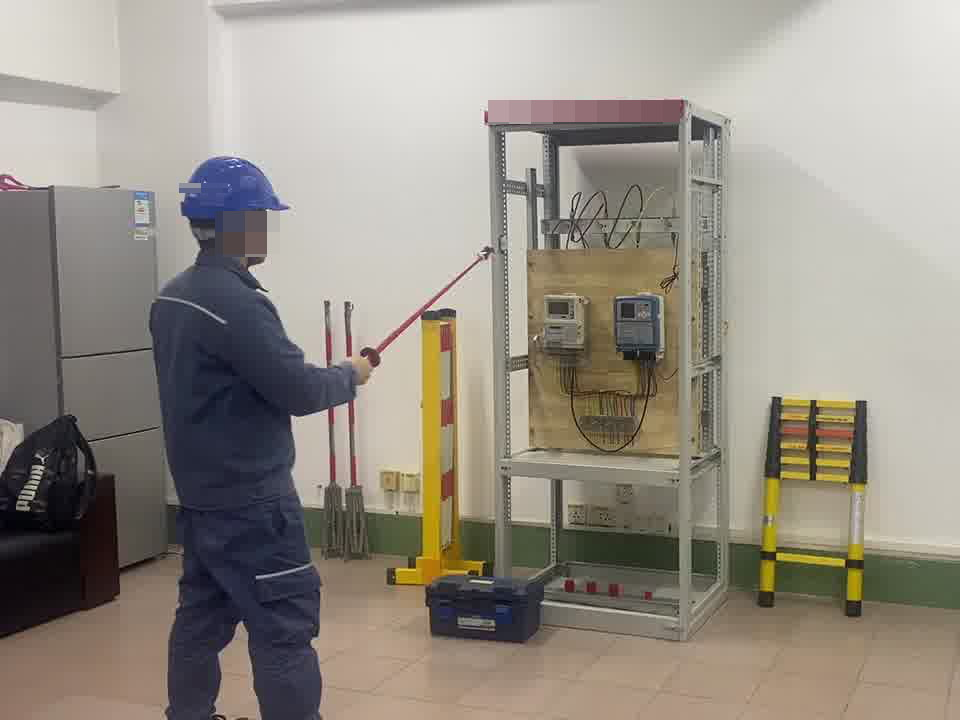downsuit: (161, 506, 329, 720)
halt: (180, 154, 291, 269)
hand: (348, 350, 372, 388)
inear: (230, 209, 268, 257)
person: (143, 151, 375, 720)
testrod: (365, 248, 495, 364)
upsuit: (146, 257, 357, 504)
